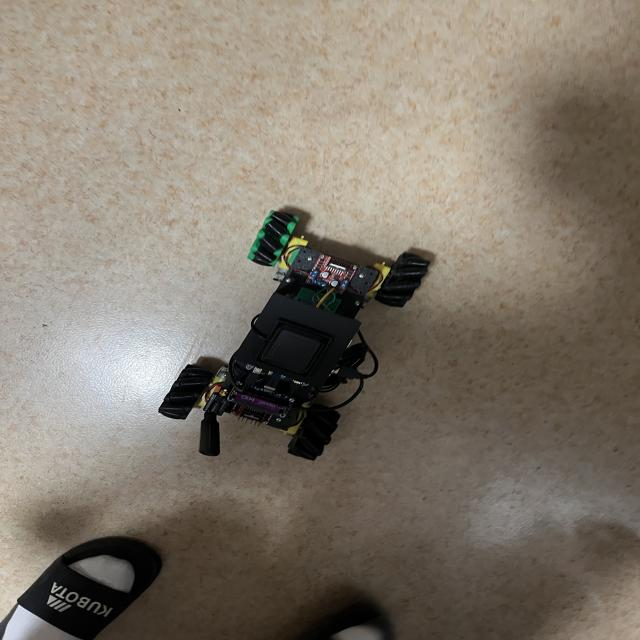robot: (159, 211, 430, 460)
